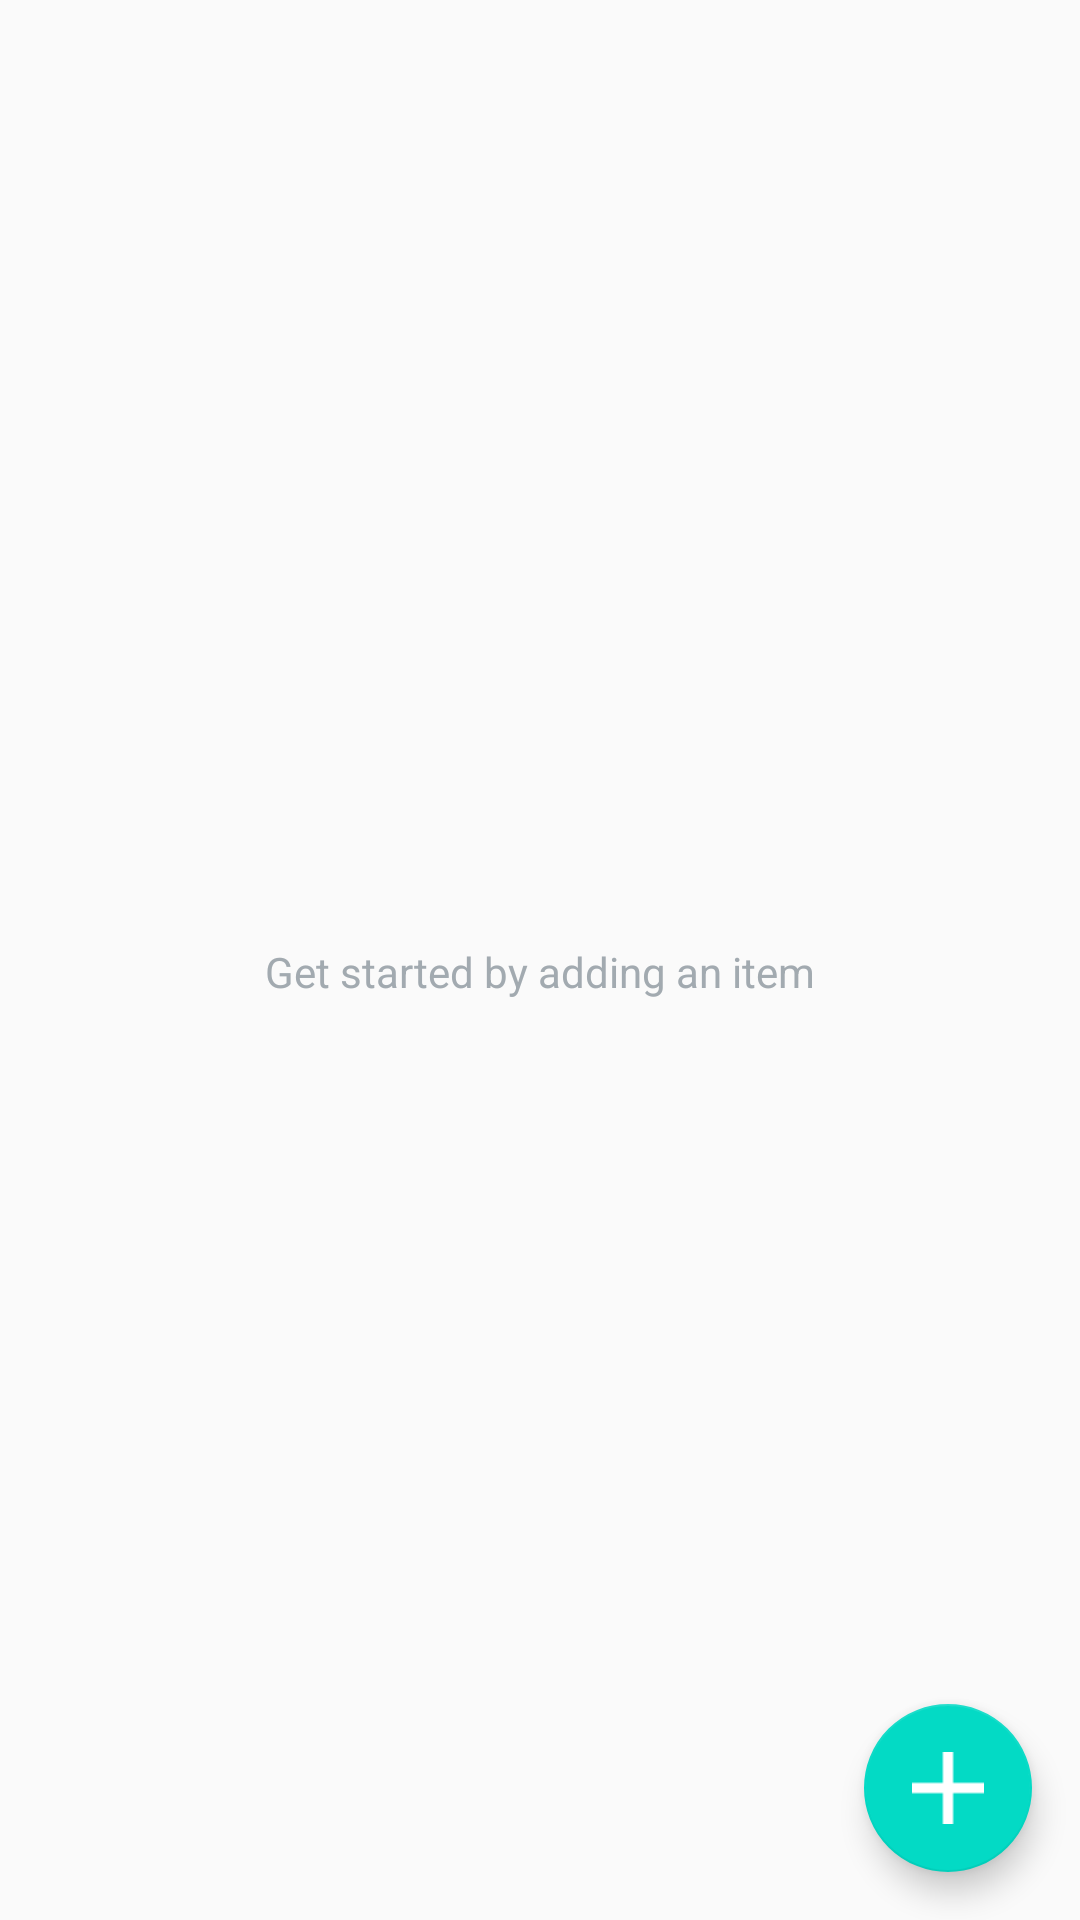

Point at icon controls on the screen. Image size 1080×1920, points as (x,y).
plus: (948,1788)
